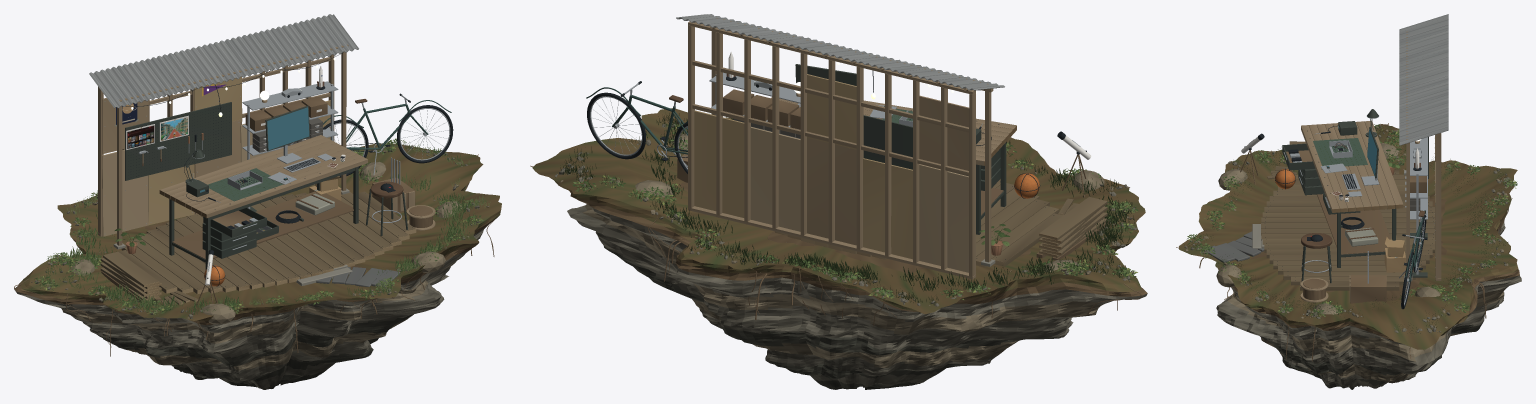
File: orbit-projects-a07c00d6.glb
The picture shows the model from 3 angles, left to right: view 1: azimuth 30°, elevation 25°; view 2: azimuth 150°, elevation 25°; view 3: azimuth 270°, elevation 25°; orthographic projection. The views are drawn at different scales.
Visible parts, largest first — view 1: Projects island · browser materials, Project print · TaipeiFlix, Project print · Taipei Run; view 2: Projects island · browser materials; view 3: Projects island · browser materials.
Part boxes in pixels (bbox=[...]): Projects island · browser materials: bbox=[14, 14, 501, 389]; Project print · TaipeiFlix: bbox=[127, 125, 154, 148]; Project print · Taipei Run: bbox=[161, 117, 187, 140]; Projects island · browser materials: bbox=[530, 14, 1147, 389]; Projects island · browser materials: bbox=[1176, 14, 1521, 389].
Size of the model in its own units: 12.78 by 7.92 by 8.17.
Materials: 47 (2 with a texture image).
